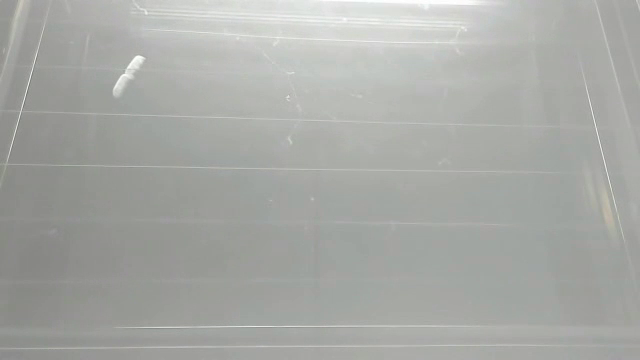alpha: (111, 52, 150, 101)
